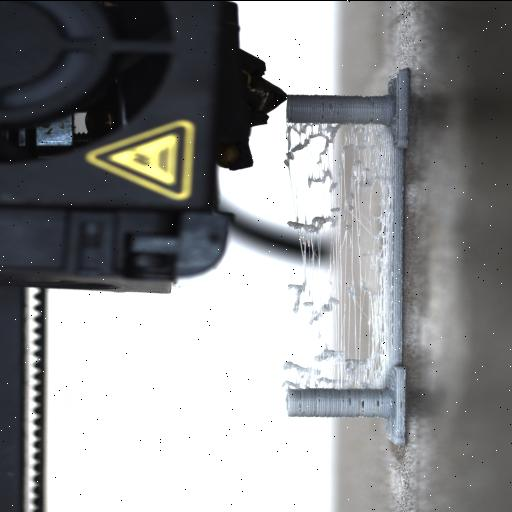stringing: (281, 124, 393, 388)
